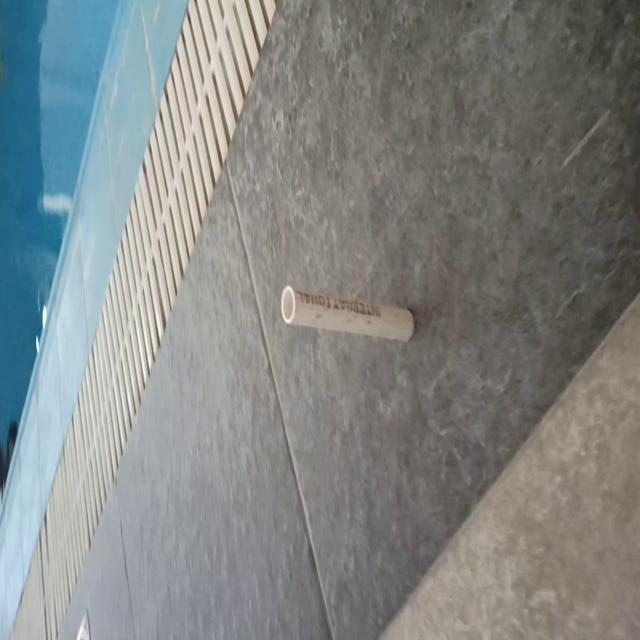Cube: (280, 283, 414, 343)
